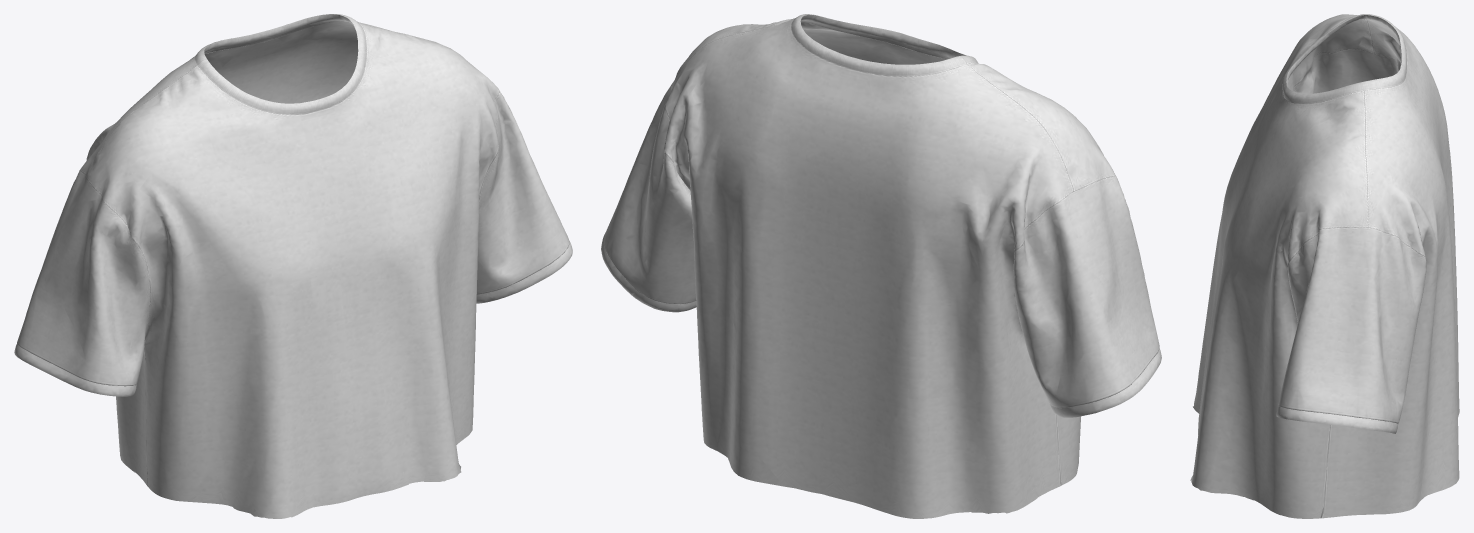
File: oversized-crop.glb
3 renders of one model, left to right at view 1: azimuth 30°, elevation 25°; view 2: azimuth 150°, elevation 25°; view 3: azimuth 270°, elevation 25°, orthographic. The views are drawn at different scales.
Parts seen in each view (by area): view 1: Object_6; view 2: Object_6; view 3: Object_6.
Part boxes in pixels (x1,y1,x2,y2): Object_6: [14, 14, 572, 518]; Object_6: [601, 14, 1161, 518]; Object_6: [1190, 14, 1459, 518].
Size of the model in its own units: 0.6369 by 0.4739 by 0.2925.
Materials: 1 (1 with a texture image).
